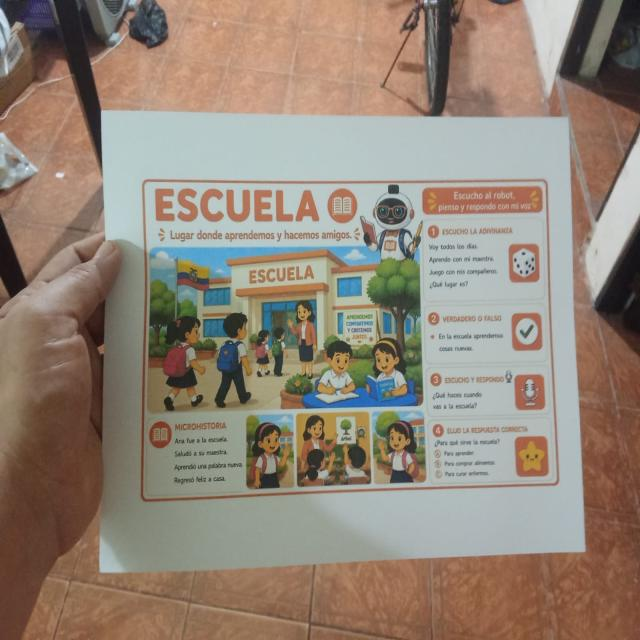escuela: (136, 172, 564, 509)
